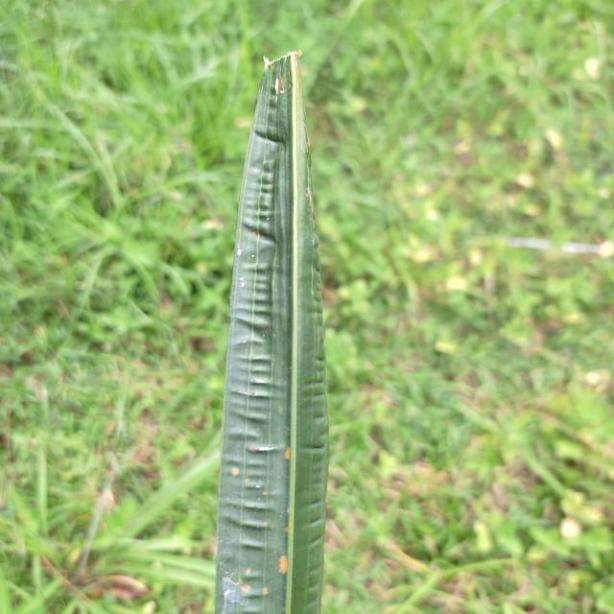Boron: (210, 46, 346, 614)
